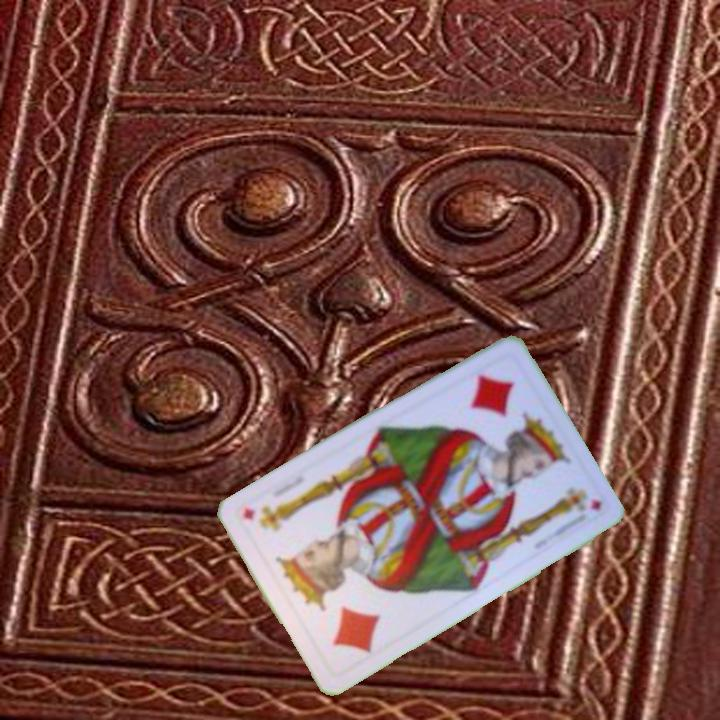d_k.png: (436, 348, 559, 476), (282, 551, 405, 678)
